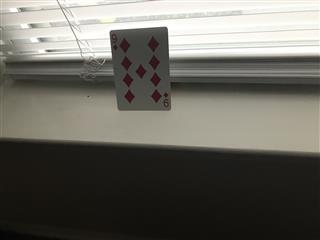NineOfDiamonds: (108, 25, 172, 111)
